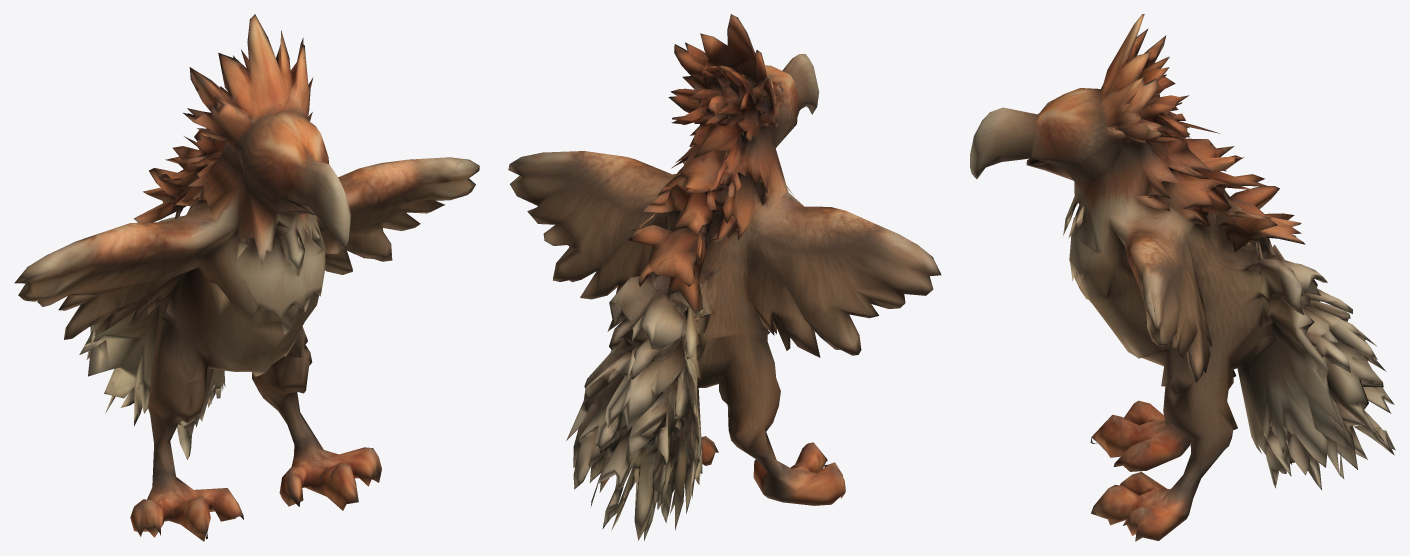
File: harpy.glb
3 views of the same model, side by side, from view 1: azimuth 30°, elevation 25°; view 2: azimuth 150°, elevation 25°; view 3: azimuth 270°, elevation 25° (orthographic). The views are drawn at different scales.
Size of the model in its own units: 1.94 by 2 by 1.61.
1 material, 1 textured.
